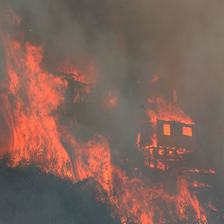fire: (3, 19, 79, 174), (143, 94, 203, 171), (82, 145, 136, 194), (160, 179, 209, 221), (112, 185, 157, 223)
